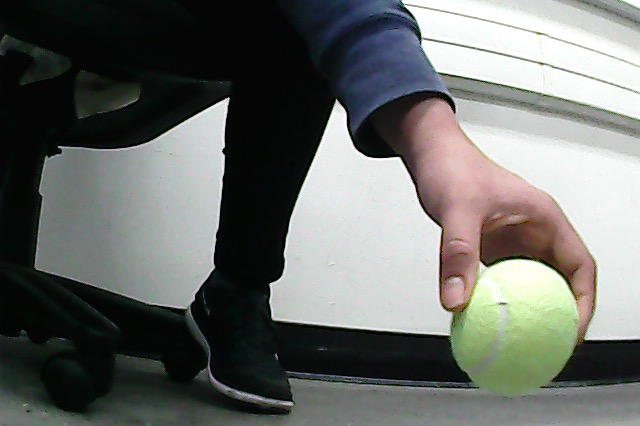ball: (451, 259, 579, 395)
